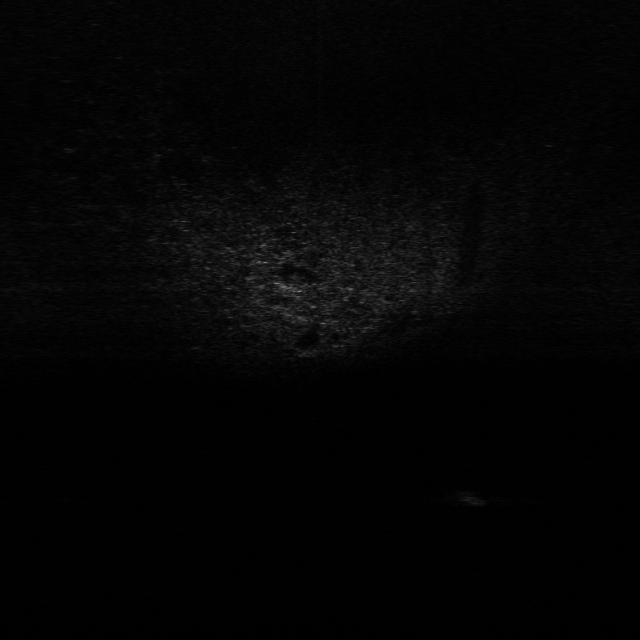cylinder: (446, 489, 490, 510)
